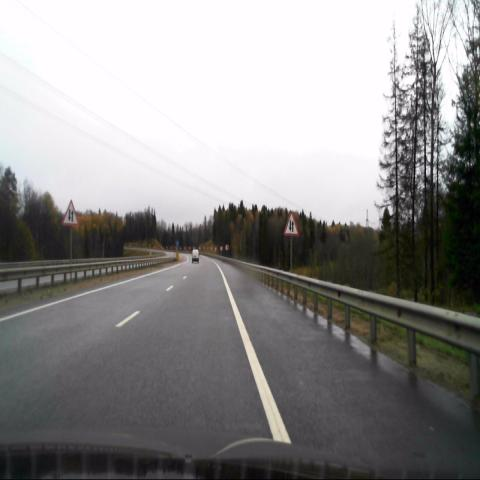1_21: (62, 199, 78, 226), (284, 211, 298, 236)
